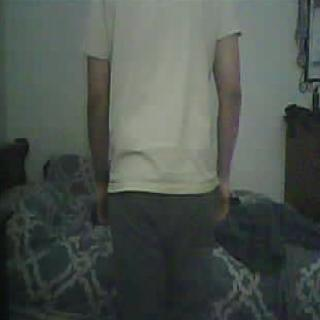Gray Sweatpants: (113, 188, 215, 320)
Yellow T-Shirt: (89, 0, 242, 187)
